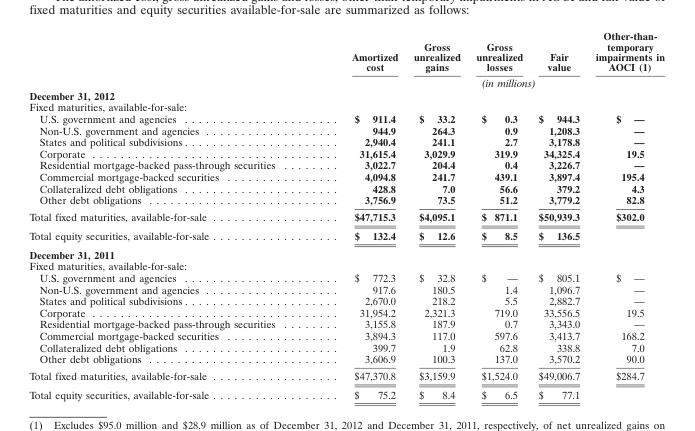table: (28, 29, 664, 400)
table column: (28, 29, 312, 400), (312, 29, 405, 400), (586, 29, 664, 400), (467, 29, 530, 400), (405, 29, 467, 400), (530, 29, 586, 400)
table column header: (28, 29, 664, 88)
table projected row header: (28, 244, 664, 259), (28, 88, 664, 100), (28, 100, 664, 112), (28, 259, 664, 271)
table row: (28, 29, 664, 74), (28, 225, 664, 244), (28, 208, 664, 225), (28, 367, 664, 384), (28, 384, 664, 400), (28, 193, 664, 208), (28, 244, 664, 259), (28, 352, 664, 367), (28, 74, 664, 88), (28, 88, 664, 100), (28, 100, 664, 112), (28, 112, 664, 124), (28, 135, 664, 147), (28, 147, 664, 159), (28, 170, 664, 182), (28, 259, 664, 271), (28, 271, 664, 283), (28, 294, 664, 306), (28, 317, 664, 329), (28, 329, 664, 341), (28, 124, 664, 135), (28, 159, 664, 170), (28, 182, 664, 193), (28, 283, 664, 294), (28, 306, 664, 317), (28, 341, 664, 352)
table spanning cell: (312, 74, 664, 88)
